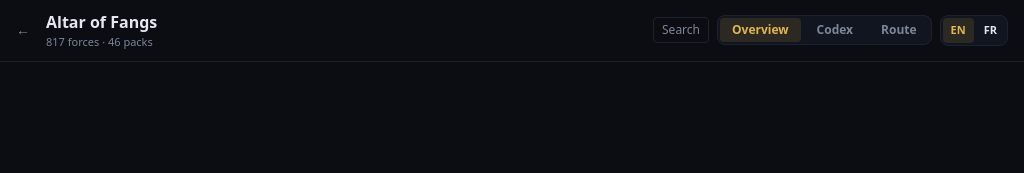
Test: The trigger button › opens the palette from a dungeon header
The image size is (1024, 173).
What coordinates should you click on to do the following:
click the button "Search"
I would click on:
 (681, 30)
Its box is [653,17,709,43].
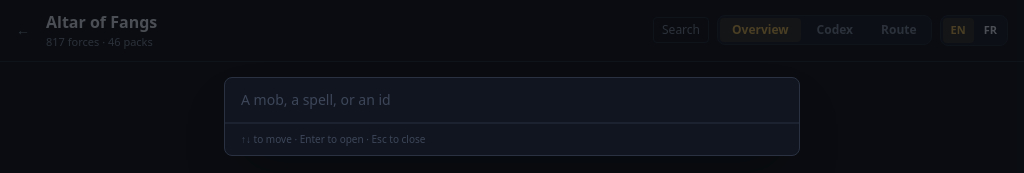
Now the dropdown is shown, box [225,78,799,123]
